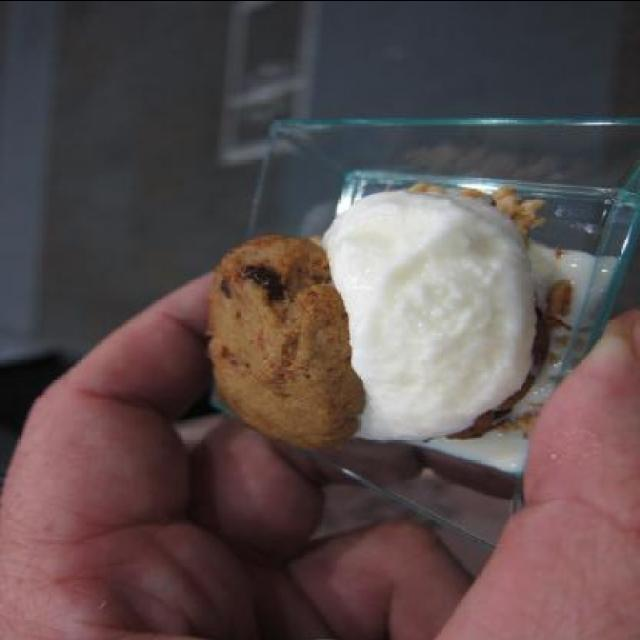Ice cream: (328, 184, 546, 436)
